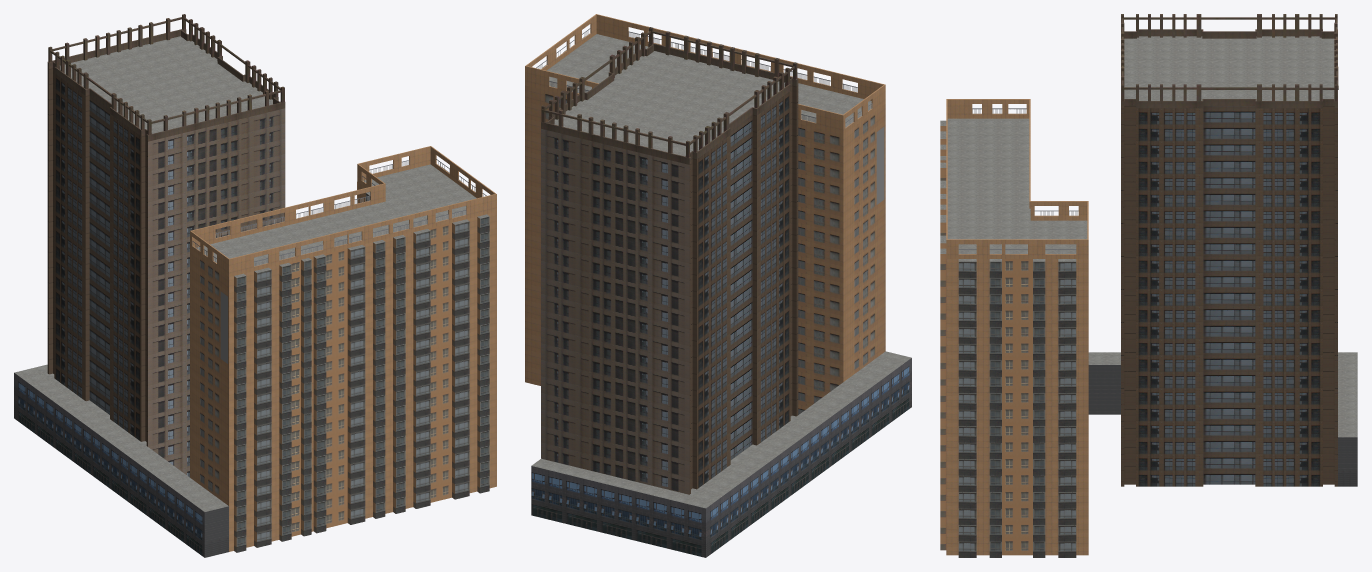
The model's file is side building20.FBX.
3 renders of one model, left to right at view 1: azimuth 30°, elevation 25°; view 2: azimuth 150°, elevation 25°; view 3: azimuth 270°, elevation 25°, orthographic. The views are drawn at different scales.
Parts seen in each view (by area): view 1: 冠城国际; view 2: 冠城国际; view 3: 冠城国际.
Part boxes in pixels (x1,y1,x2,y2): 冠城国际: (14, 14, 496, 557); 冠城国际: (525, 14, 911, 557); 冠城国际: (940, 14, 1357, 557).
Bounding box in the file's own units: 61.07 × 68.9 × 73.07.
